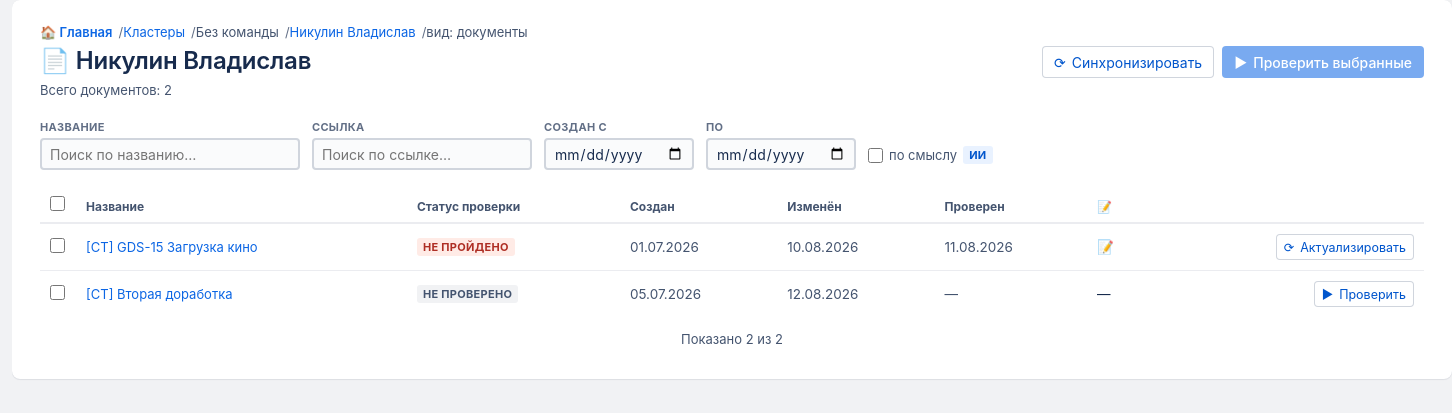
it: DocumentsPage › keeps the period in the URL when the dates change
Expected: the button "[СТ] GDS-15 Загрузка кино" is shown, [86,239,258,255]
In the date field labelled "Создан с": (619, 154) [544,138,694,170], type "2026-08-01"
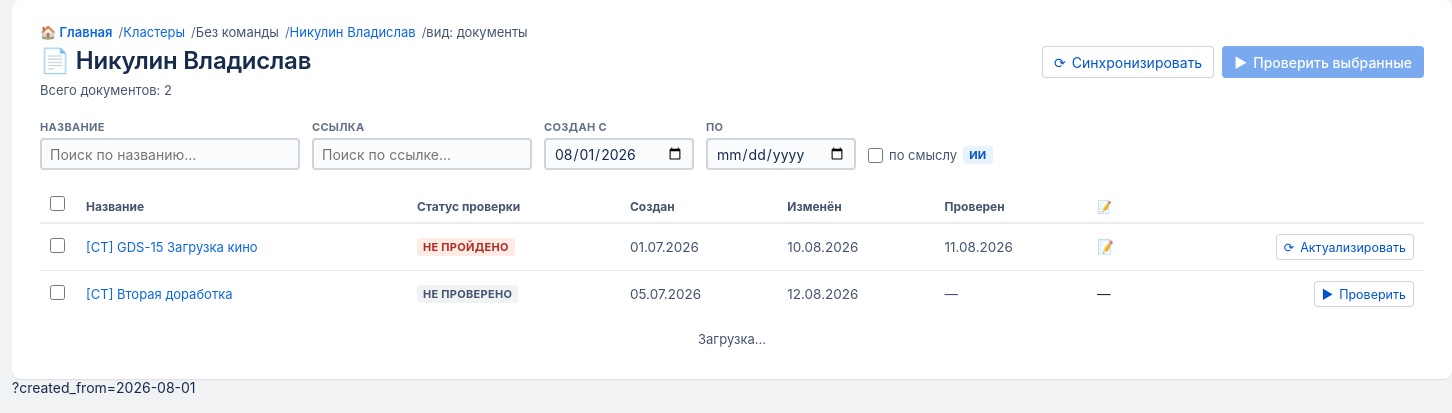
In the date field labelled "по": (781, 154) [706,138,856,170], type "2026-08-31"
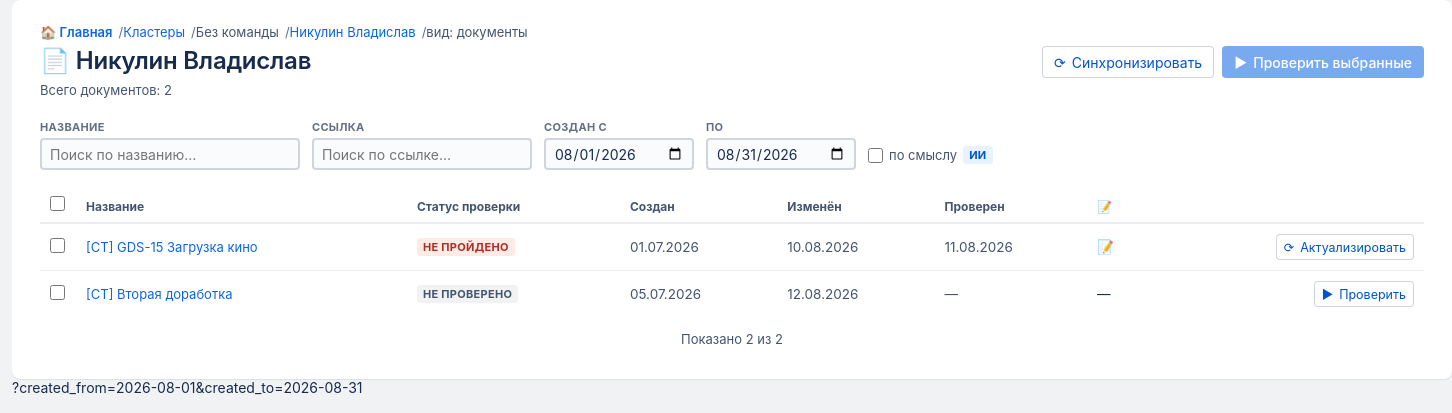
Now the text with test id "location-probe" shows "created_from=2026-08-01", box [12,379,363,396]
Now the text with test id "location-probe" shows "created_to=2026-08-31", box [12,379,363,396]
